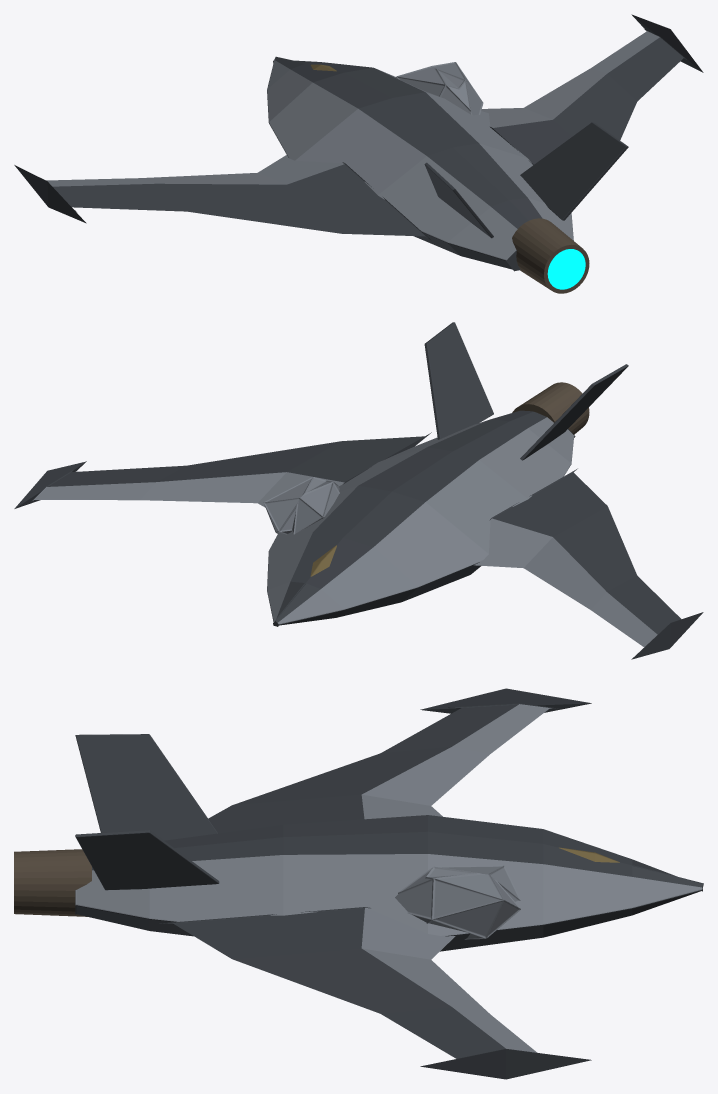
Rendered from h2-valyrie.glb.
3 renders of one model, top to bottom at view 1: azimuth 30°, elevation 25°; view 2: azimuth 150°, elevation 25°; view 3: azimuth 270°, elevation 25°, orthographic. The views are drawn at different scales.
Parts seen in each view (by area): view 1: H2_Valkyrie_Fuselage, H2_Forward_Swept_Wings, H2_Twin_VTail, H2_Jet_Nozzle, H2_Geodesic_Side_Pod; view 2: H2_Valkyrie_Fuselage, H2_Forward_Swept_Wings, H2_Twin_VTail, H2_Geodesic_Side_Pod, H2_Jet_Nozzle; view 3: H2_Forward_Swept_Wings, H2_Valkyrie_Fuselage, H2_Twin_VTail, H2_Geodesic_Side_Pod, H2_Jet_Nozzle.
Boxes of the visible parts, left/top/right/bottom form: H2_Valkyrie_Fuselage: left=267, top=56, right=573, bottom=271; H2_Forward_Swept_Wings: left=14, top=14, right=703, bottom=239; H2_Twin_VTail: left=424, top=122, right=628, bottom=238; H2_Jet_Nozzle: left=512, top=218, right=589, bottom=293; H2_Geodesic_Side_Pod: left=396, top=62, right=483, bottom=115; H2_Valkyrie_Fuselage: left=267, top=410, right=575, bottom=626; H2_Forward_Swept_Wings: left=14, top=432, right=703, bottom=659; H2_Twin_VTail: left=424, top=322, right=628, bottom=460; H2_Geodesic_Side_Pod: left=263, top=477, right=339, bottom=534; H2_Jet_Nozzle: left=512, top=382, right=589, bottom=434; H2_Forward_Swept_Wings: left=159, top=688, right=591, bottom=1079; H2_Valkyrie_Fuselage: left=75, top=815, right=703, bottom=951; H2_Twin_VTail: left=75, top=734, right=219, bottom=890; H2_Geodesic_Side_Pod: left=395, top=865, right=520, bottom=939; H2_Jet_Nozzle: left=14, top=849, right=91, bottom=916.
Bounding box in the file's own units: 11.48 × 1.96 × 9.29.
